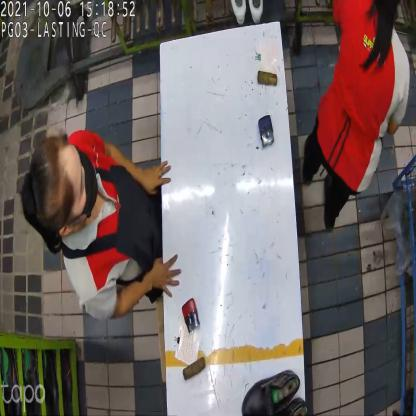shoes: (240, 367, 306, 415)
stamp: (184, 295, 202, 335), (256, 115, 276, 150)
